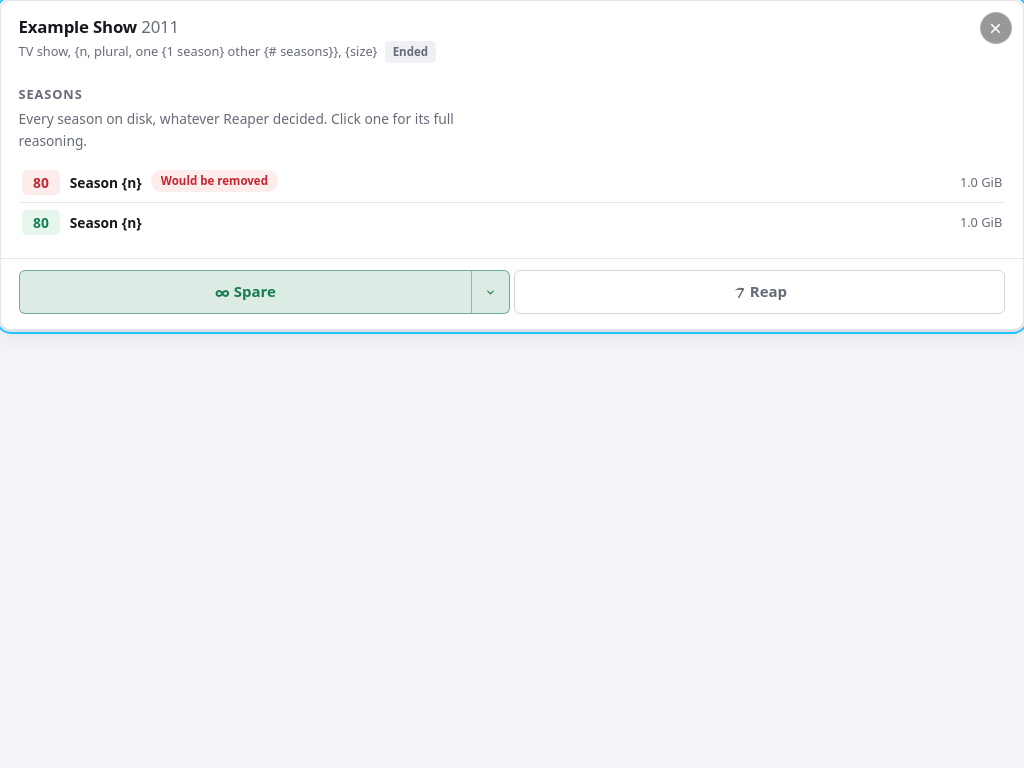
Test: the show panel's whole-show buttons › says so when the save fails
This screenshot has width=1024, height=768.
Click the button "∞ Spare": {"x": 245, "y": 292} [19, 270, 471, 314]
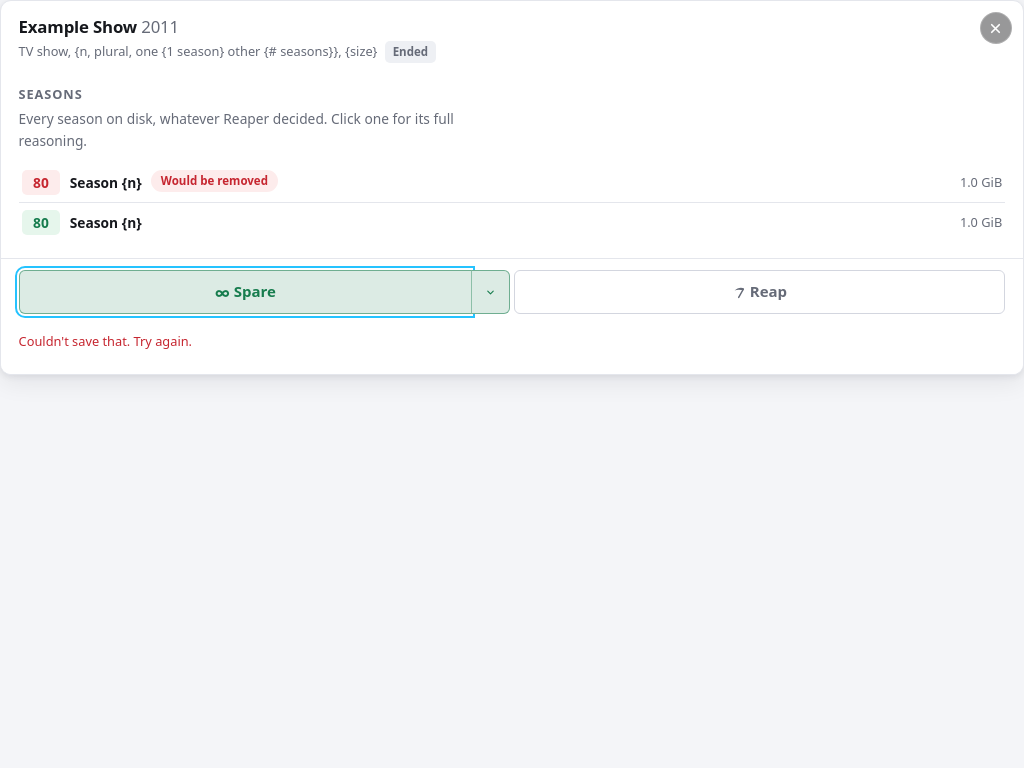
Now the text "Couldn't save that. Try again." is shown, box [19, 332, 192, 352]
